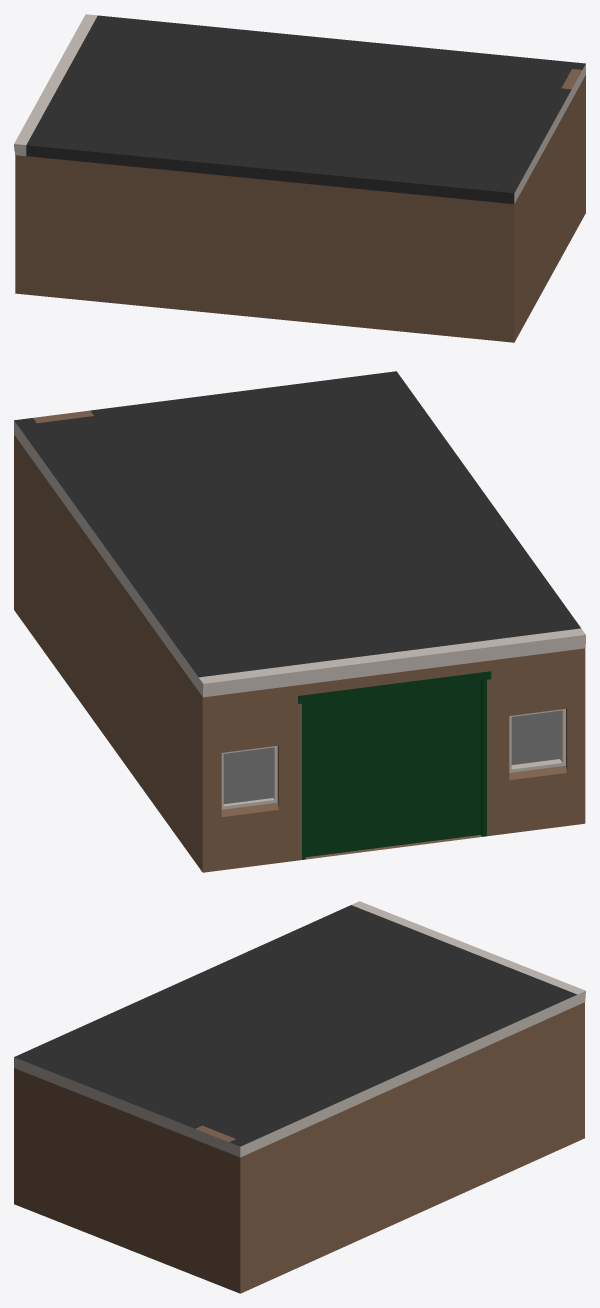
File: Grote_Kattenburgerstraat_52.fbx
3 renders of one model, top to bottom at view 1: azimuth 30°, elevation 25°; view 2: azimuth 150°, elevation 25°; view 3: azimuth 270°, elevation 25°, orthographic. The views are drawn at different scales.
Parts seen in each view (by area): view 1: Grote_Kattenburgerstraat_52_wall.001; view 2: Grote_Kattenburgerstraat_52_wall.001, Grote_Kattenburgerstraat_52_wall.002, Grote_Kattenburgerstraat_52_wall.003, Grote_Kattenburgerstraat_52_wall.004; view 3: Grote_Kattenburgerstraat_52_wall.001.
Part boxes in pixels (bbox=[...]): Grote_Kattenburgerstraat_52_wall.001: bbox=[14, 14, 585, 342]; Grote_Kattenburgerstraat_52_wall.001: bbox=[14, 371, 585, 872]; Grote_Kattenburgerstraat_52_wall.002: bbox=[305, 680, 480, 857]; Grote_Kattenburgerstraat_52_wall.003: bbox=[223, 747, 272, 804]; Grote_Kattenburgerstraat_52_wall.004: bbox=[511, 711, 559, 764]; Grote_Kattenburgerstraat_52_wall.001: bbox=[14, 901, 585, 1293].
Size of the model in its own units: 14.23 by 3.97 by 14.
